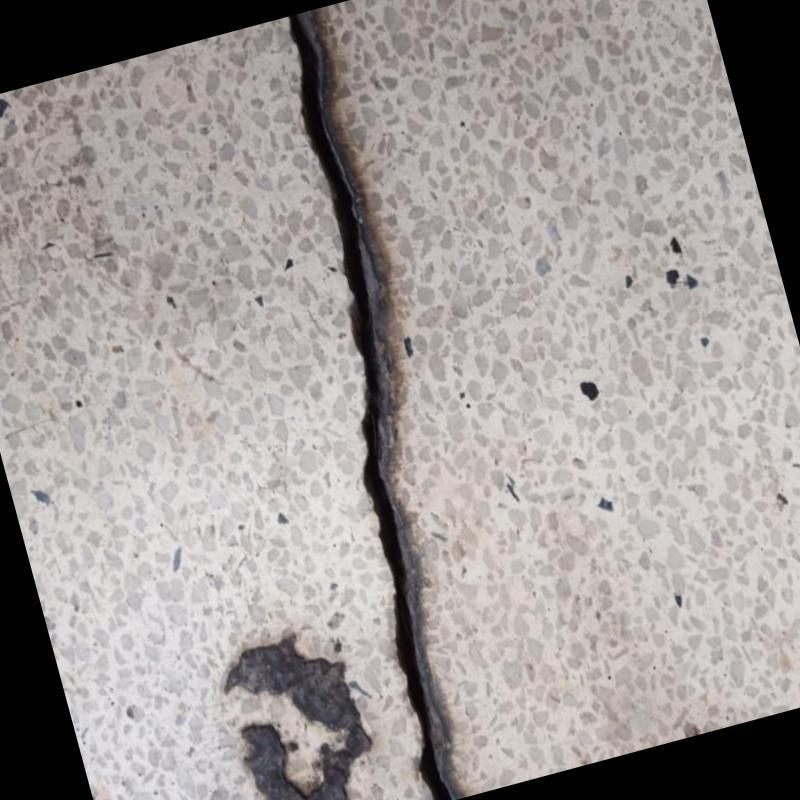pothole: (288, 14, 450, 800)
